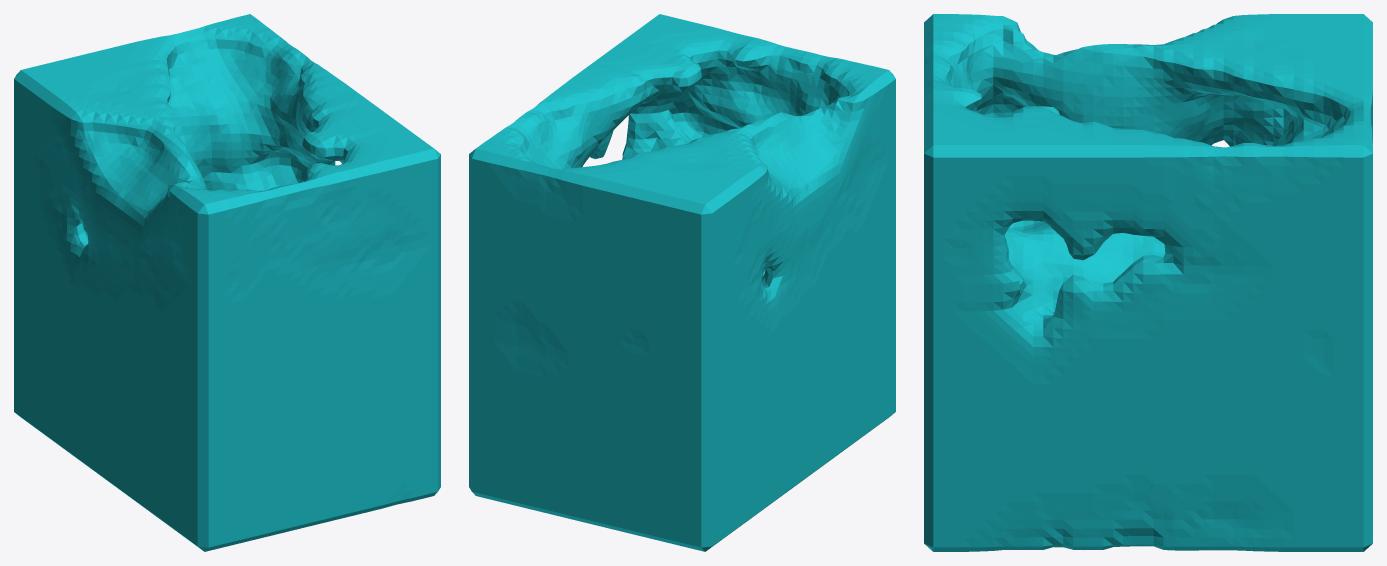
3 views of the same model, side by side, from view 1: azimuth 30°, elevation 25°; view 2: azimuth 150°, elevation 25°; view 3: azimuth 270°, elevation 25° (orthographic). The views are drawn at different scales.
Visible parts, largest first — view 1: Liquid_Domain; view 2: Liquid_Domain; view 3: Liquid_Domain.
Part boxes in pixels (left/top/right/bottom): Liquid_Domain: left=14, top=14, right=440, bottom=551; Liquid_Domain: left=469, top=14, right=895, bottom=551; Liquid_Domain: left=924, top=14, right=1372, bottom=551.
Bounding box in the file's own units: 79.09 × 108 × 108.
